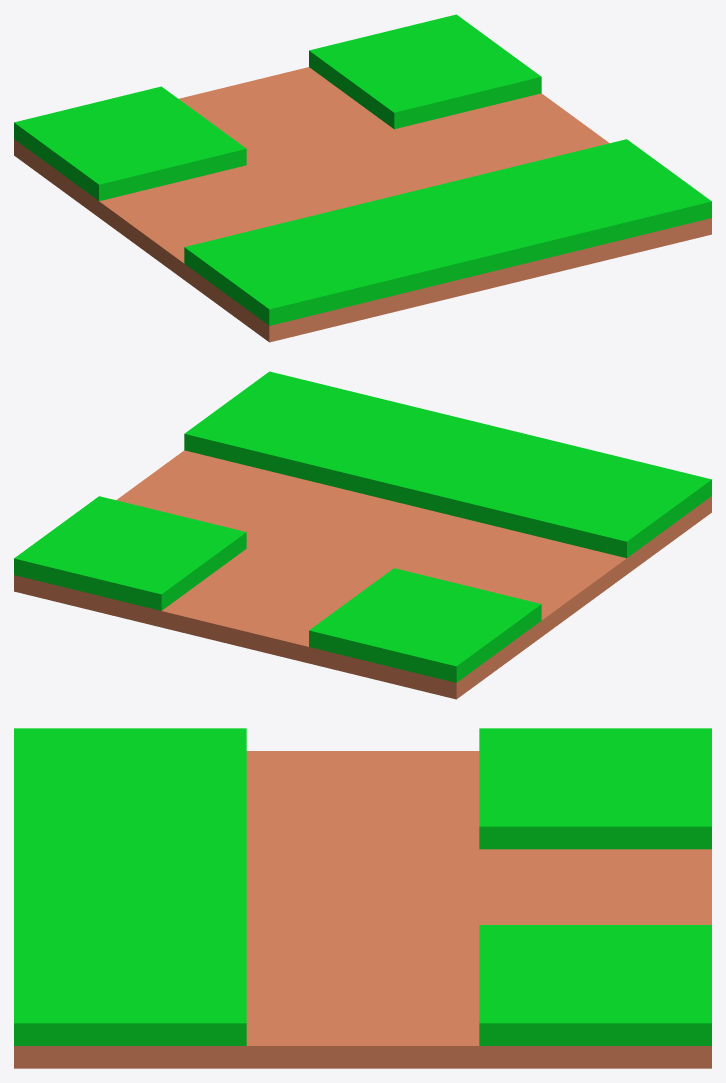
File: SoilTripleCrossroad.fbx
3 renders of one model, top to bottom at view 1: azimuth 30°, elevation 25°; view 2: azimuth 150°, elevation 25°; view 3: azimuth 270°, elevation 25°, orthographic. The views are drawn at different scales.
Visible parts, largest first — view 1: Soil; view 2: Soil; view 3: Soil.
Boxes of the visible parts, x1,y1,x2,y2 form: Soil: [14, 14, 711, 342]; Soil: [14, 371, 711, 699]; Soil: [14, 728, 711, 1068].
Size of the model in its own units: 560 by 560 by 40.
